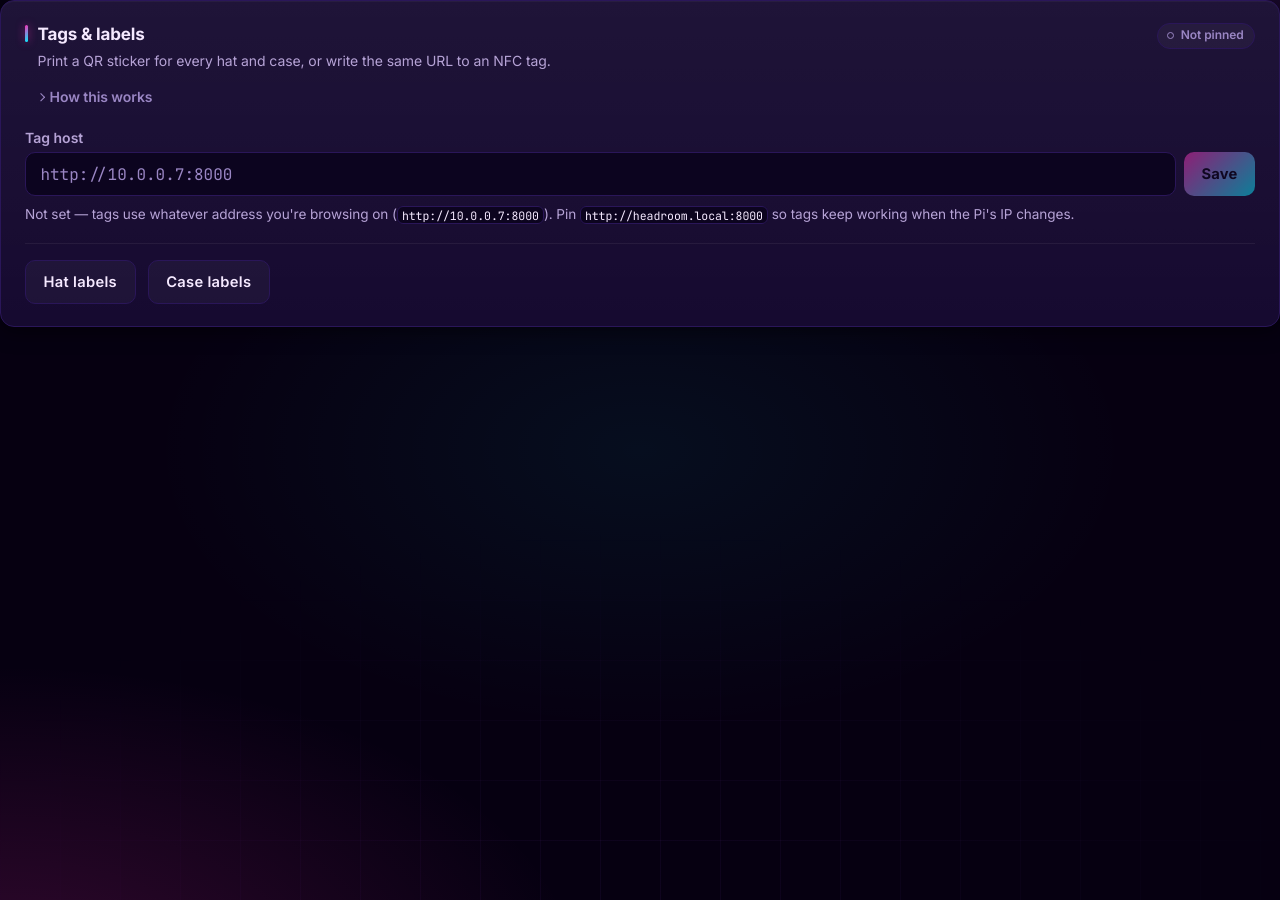
Scenario: TagsCard › saves the trimmed host on Enter and shows the answer without a reload
Expected: the text "Not pinned" is shown, [1158,23,1255,49]
Type "  http://headroom.local:8000  " into the field labelled "Tag host".
click(600, 174); type("  http://headroom.local:8000  ")  # box [25,152,1176,196]
Then press Enter
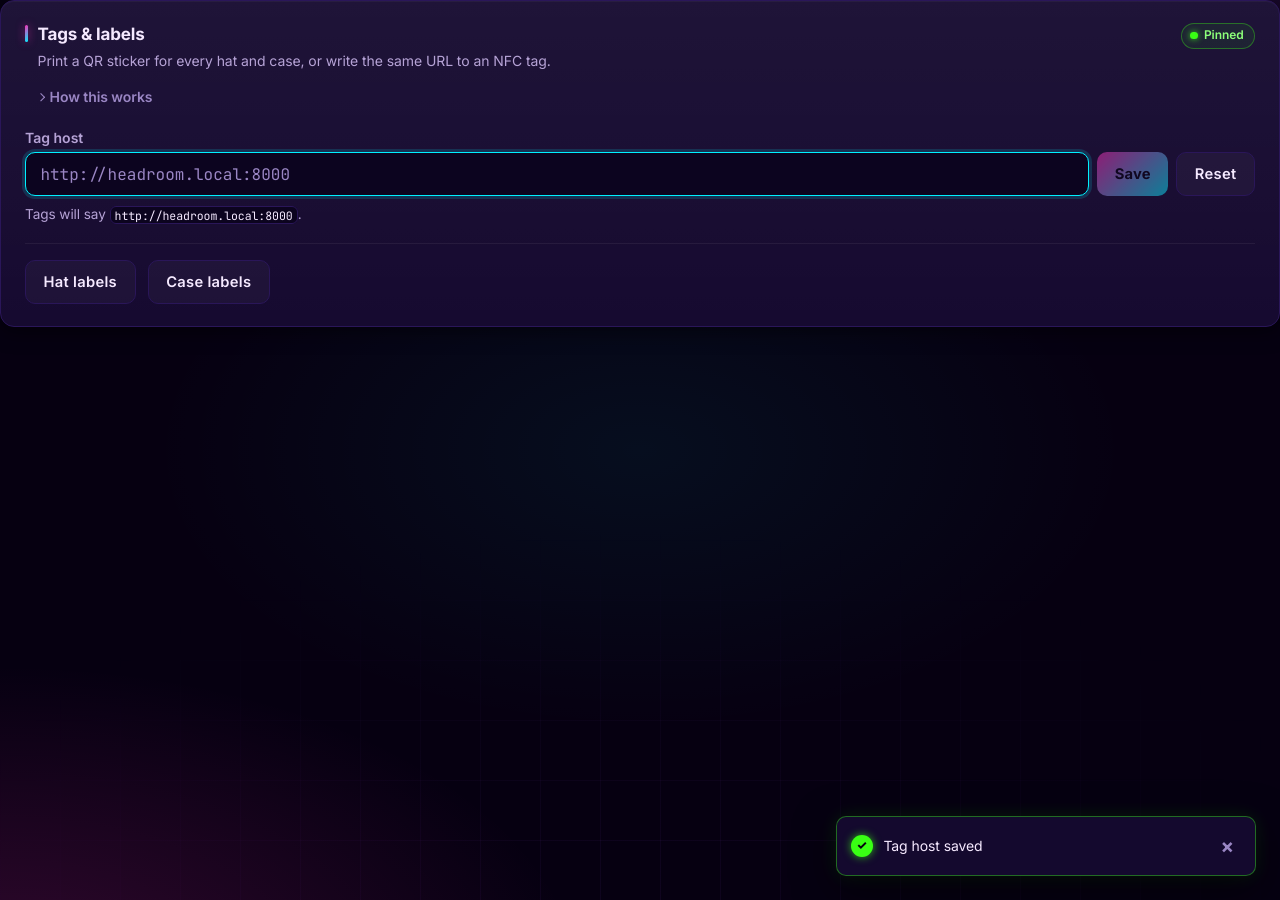
Expected: the text "Pinned" is shown, [1181,23,1255,49]
Expected: the text "Tag host saved" is shown, [883,837,983,854]
